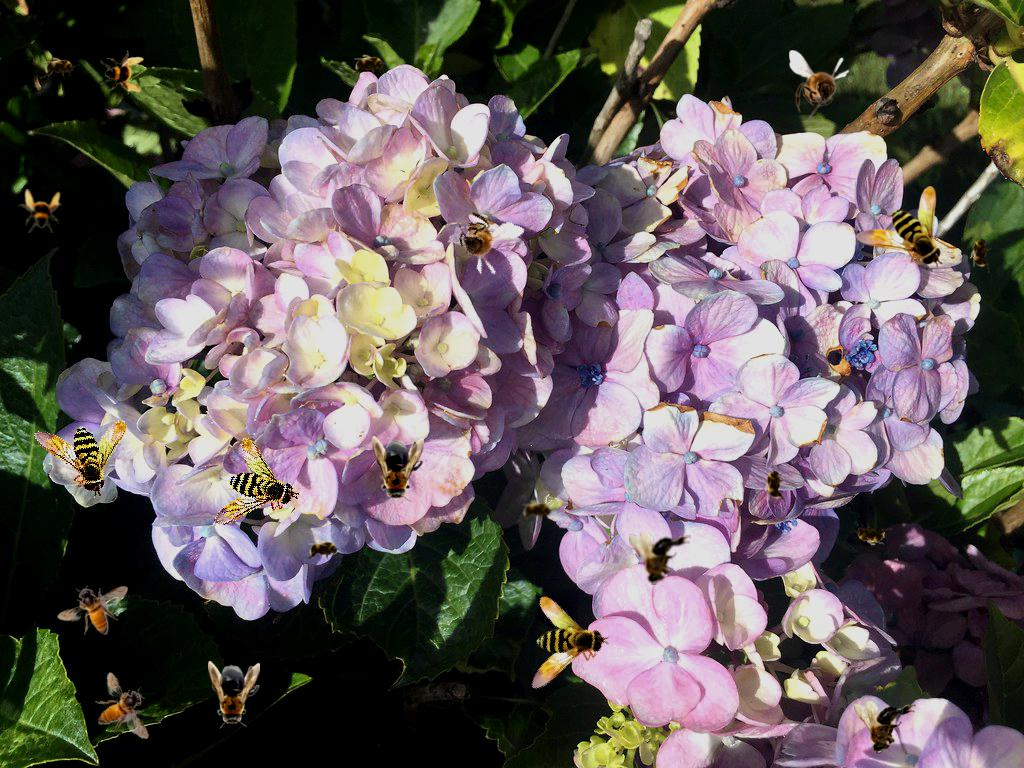Bee: (493, 588, 613, 708), (183, 430, 303, 550), (20, 387, 136, 501), (435, 198, 526, 284), (855, 186, 943, 268), (91, 668, 151, 745), (789, 50, 850, 120), (57, 585, 128, 635), (372, 436, 424, 504), (208, 661, 260, 729), (854, 701, 916, 754), (629, 532, 691, 585), (100, 50, 144, 94), (18, 189, 62, 233), (847, 518, 893, 550), (968, 231, 994, 273), (304, 539, 344, 561), (764, 464, 786, 504), (350, 54, 390, 76), (40, 57, 80, 79), (518, 500, 558, 522)
